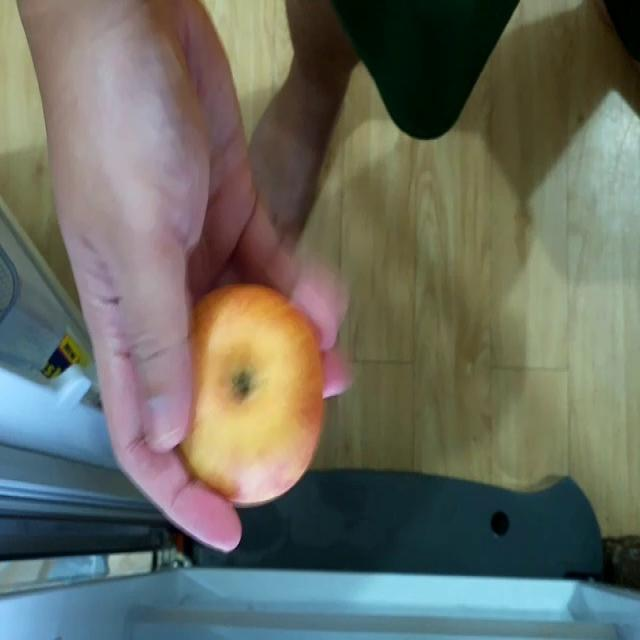apple: (166, 284, 330, 502)
